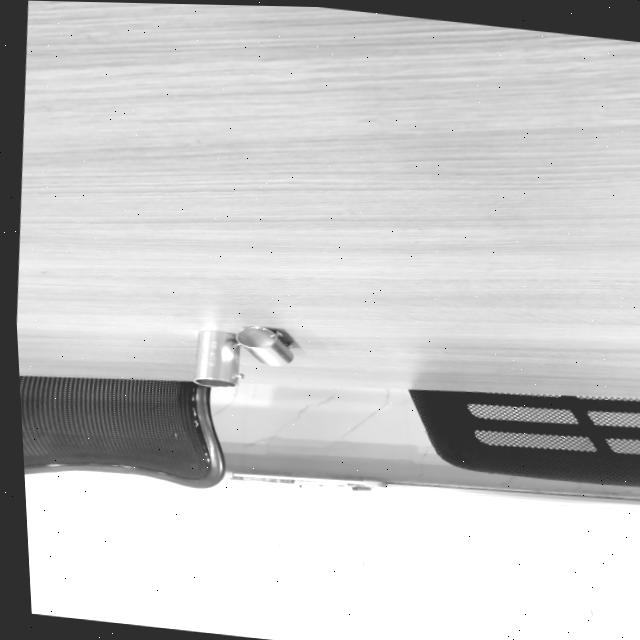Co_Lon: (192, 329, 239, 387)
Co_Nho: (231, 311, 299, 375)
